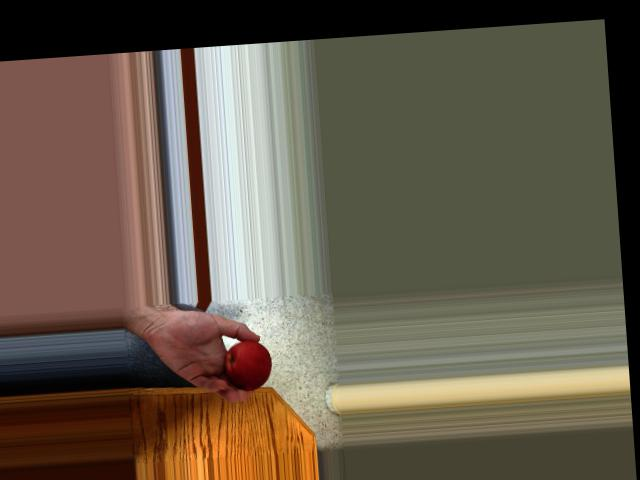apple: (218, 337, 273, 392)
